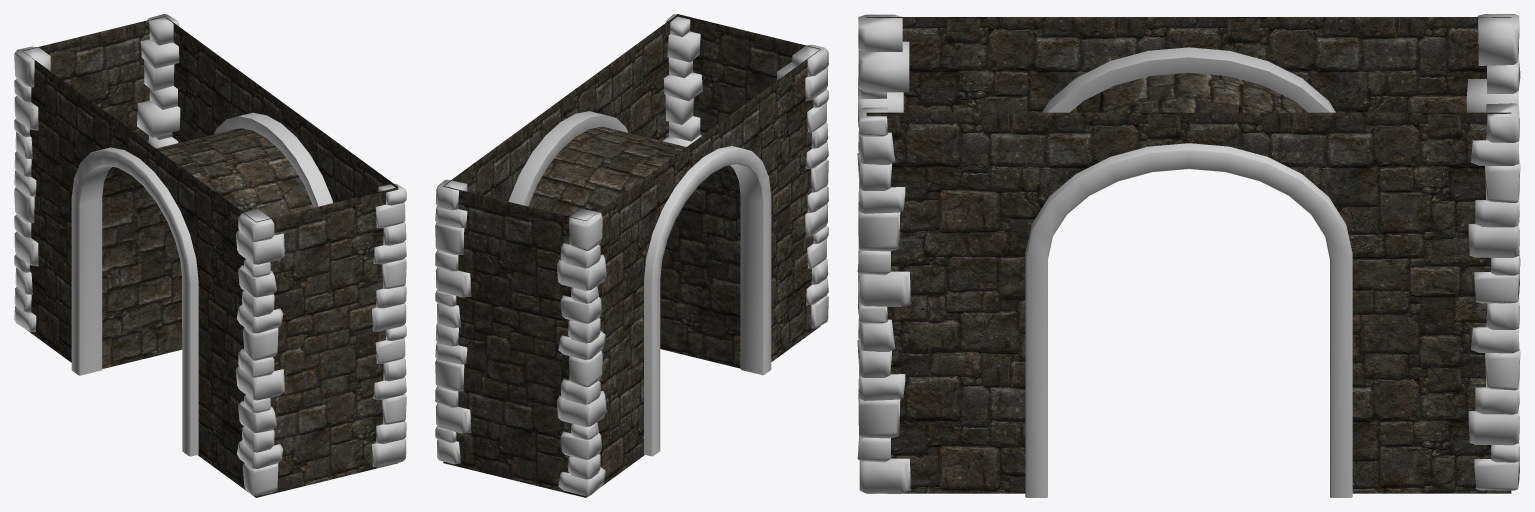
The model's file is Build6_A.fbx.
3 views of the same model, side by side, from view 1: azimuth 30°, elevation 25°; view 2: azimuth 150°, elevation 25°; view 3: azimuth 270°, elevation 25° (orthographic). The views are drawn at different scales.
Visible parts, largest first — view 1: polySurface3173; view 2: polySurface3173; view 3: polySurface3173.
Part boxes in pixels (<box>): polySurface3173: <box>14,14,406,497</box>; polySurface3173: <box>435,14,828,497</box>; polySurface3173: <box>857,14,1520,497</box>.
Bounding box in the file's own units: 3.73 × 6.15 × 9.7.
